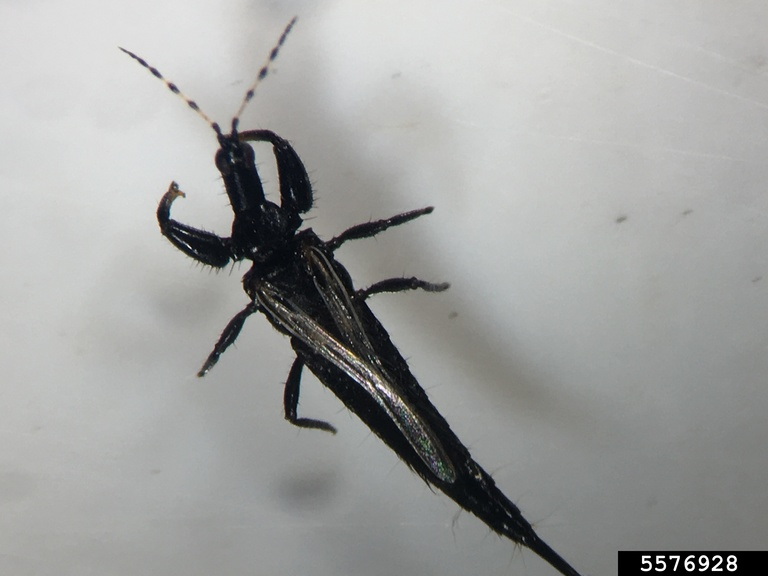Thrips: (123, 29, 566, 576)
